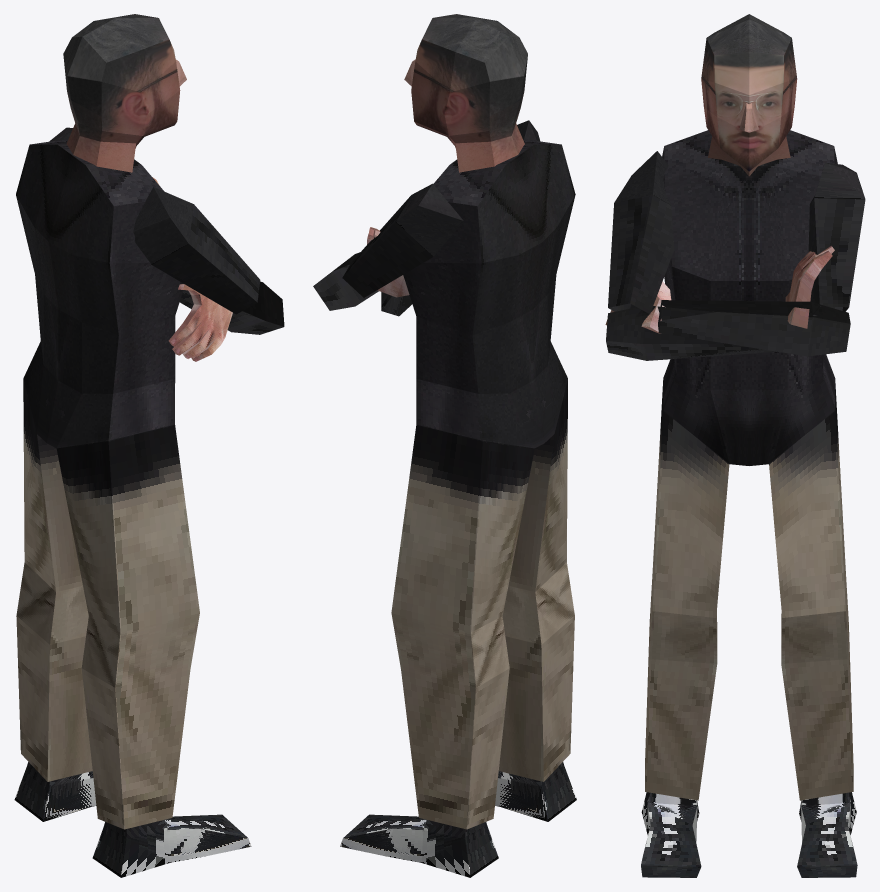
File: lowpoly.gltf
The picture shows the model from 3 angles, left to right: view 1: azimuth 30°, elevation 25°; view 2: azimuth 150°, elevation 25°; view 3: azimuth 270°, elevation 25°; orthographic projection.
Parts seen in each view (by area): view 1: Torso, Head, right-arm, left-hand, right-forearm; view 2: Torso, Head, left-arm, left-forearm, right-hand, right-forearm; view 3: Torso, Head, left-forearm, right-arm, left-arm, right-forearm, right-hand, left-hand.
Part boxes in pixels (x1,y1,x2,y2): Torso: [14, 139, 251, 877]; Head: [63, 14, 186, 172]; right-arm: [133, 187, 260, 314]; left-hand: [168, 284, 232, 361]; right-forearm: [179, 281, 284, 334]; Torso: [340, 139, 576, 877]; Head: [404, 14, 527, 172]; left-arm: [342, 183, 463, 297]; left-forearm: [313, 252, 378, 310]; right-hand: [367, 227, 409, 297]; right-forearm: [381, 292, 412, 316]; Torso: [641, 130, 857, 877]; Head: [701, 14, 797, 176]; left-forearm: [658, 300, 850, 356]; right-arm: [608, 151, 674, 317]; left-arm: [808, 162, 865, 315]; right-forearm: [606, 306, 776, 360]; right-hand: [785, 246, 834, 328]; left-hand: [605, 281, 671, 333].
Bounding box in the file's own units: 0.9794 × 4.1 × 1.18.
Materials: 3 (3 with a texture image).
